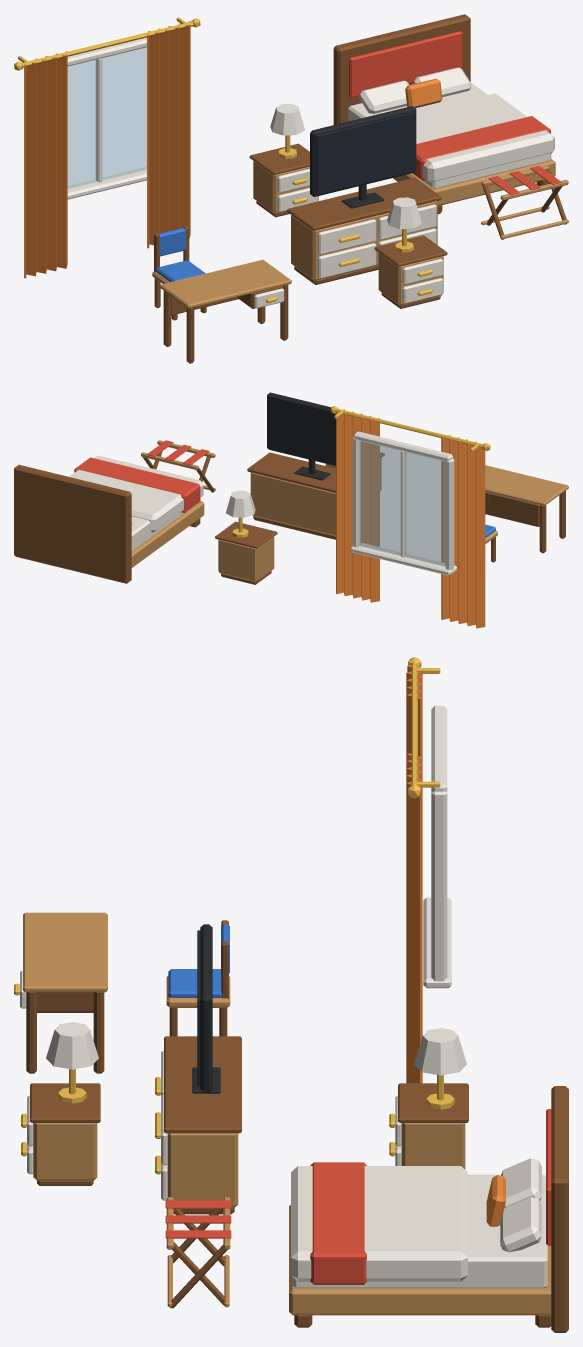
Rendered from hotel-room-set.glb.
3 renders of one model, top to bottom at view 1: azimuth 30°, elevation 25°; view 2: azimuth 150°, elevation 25°; view 3: azimuth 270°, elevation 25°, orthographic. The views are drawn at different scales.
Parts seen in each view (by area): view 1: Curtain_L, Window_Glass, Curtain_R, Bed_Duvet, TV_Screen, Bed_HeadPanel, Bed_Headboard, TV_Dresser, Desk_Top, TV_Dresser_Top, Bed_Runner, TV_Dresser_Body (+25 smaller); view 2: Bed_Headboard, Window_Glass, Curtain_L, Curtain_R, TV_Frame, TV_Dresser_Body, Bed_Duvet, Bed_Runner, Desk_Top, Nightstand_L_Body, TV_Dresser_Top, Bed_Frame (+14 smaller); view 3: Bed_Duvet, Bed_Frame, Desk_Top, Bed_Mattress, Bed_Runner, TV_Dresser_Top, Curtain_R, TV_Dresser_Body, Bed_Headboard, Nightstand_R_Body, Window_Jamb_1, LuggageRack (+16 smaller).
Boxes of the visible parts, bbox=[...] form: Curtain_L: bbox=[24, 51, 67, 278]; Window_Glass: bbox=[67, 47, 146, 188]; Curtain_R: bbox=[147, 21, 190, 248]; Bed_Duvet: bbox=[416, 93, 554, 183]; TV_Screen: bbox=[316, 112, 414, 194]; Bed_HeadPanel: bbox=[349, 31, 462, 97]; Bed_Headboard: bbox=[333, 14, 470, 124]; TV_Dresser: bbox=[318, 204, 436, 278]; Desk_Top: bbox=[160, 259, 291, 308]; TV_Dresser_Top: bbox=[287, 177, 441, 230]; Bed_Runner: bbox=[412, 116, 550, 180]; TV_Dresser_Body: bbox=[291, 201, 437, 280]; Bed_Headboard: bbox=[14, 464, 131, 583]; Window_Glass: bbox=[360, 441, 445, 566]; Curtain_L: bbox=[441, 435, 485, 628]; Curtain_R: bbox=[336, 409, 379, 602]; TV_Frame: bbox=[267, 392, 335, 465]; TV_Dresser_Body: bbox=[250, 472, 335, 535]; Bed_Duvet: bbox=[69, 455, 203, 532]; Bed_Runner: bbox=[74, 457, 200, 512]; Desk_Top: bbox=[485, 465, 568, 506]; Nightstand_L_Body: bbox=[218, 537, 274, 581]; TV_Dresser_Top: bbox=[247, 452, 335, 492]; Bed_Frame: bbox=[131, 501, 204, 567]; Bed_Duvet: bbox=[291, 1166, 467, 1281]; Bed_Frame: bbox=[289, 1205, 551, 1315]; Desk_Top: bbox=[23, 912, 107, 992]; Bed_Mattress: bbox=[292, 1174, 547, 1288]; Bed_Runner: bbox=[310, 1162, 366, 1284]; TV_Dresser_Top: bbox=[164, 1036, 241, 1133]; Curtain_R: bbox=[406, 753, 422, 1083]; TV_Dresser_Body: bbox=[167, 1133, 238, 1207]; Bed_Headboard: bbox=[551, 1086, 568, 1332]; Nightstand_R_Body: bbox=[33, 1123, 97, 1180]; Window_Jamb_1: bbox=[431, 791, 447, 981]; LuggageRack: bbox=[165, 1197, 231, 1307].
Size of the model in its own units: 24.16 by 9.92 by 15.67.
